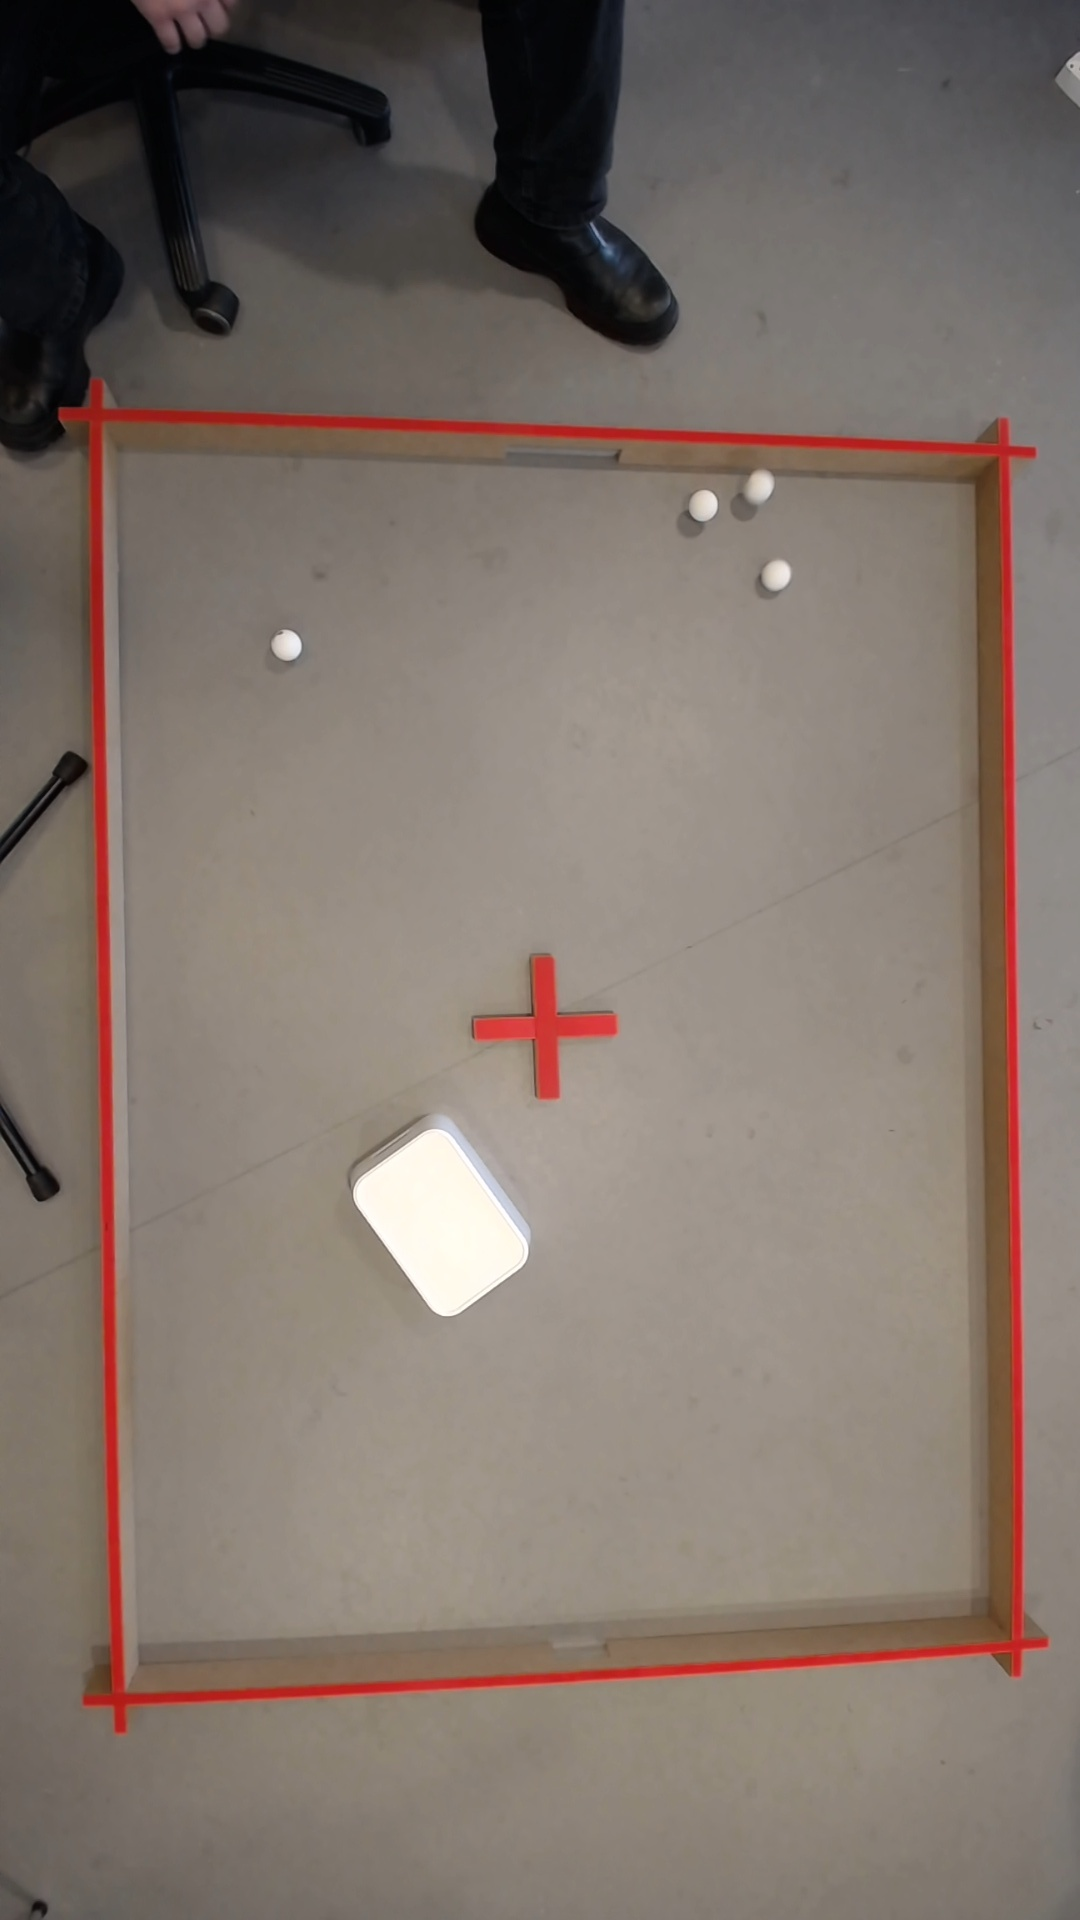balls: (342, 1113, 546, 1325), (686, 485, 724, 522), (269, 625, 306, 662), (767, 560, 790, 588)
car: (752, 473, 773, 498)
